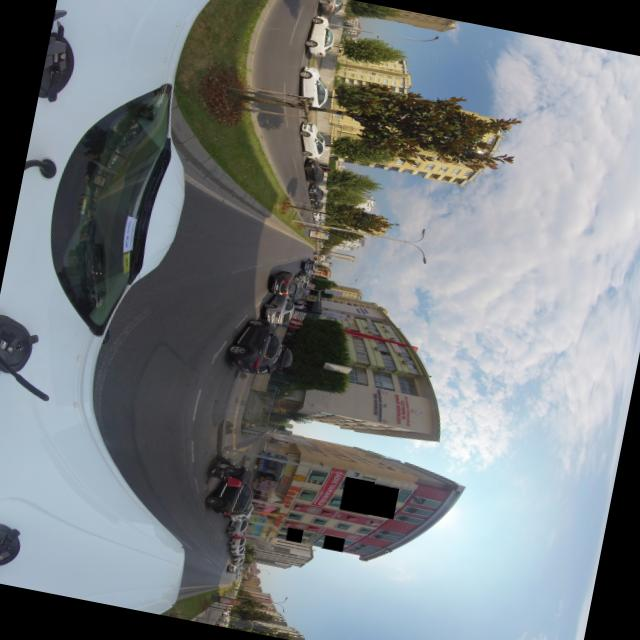SignStore: (338, 480, 374, 512), (311, 473, 343, 507), (365, 487, 398, 516), (320, 537, 344, 549), (303, 533, 324, 545), (285, 528, 302, 541)
